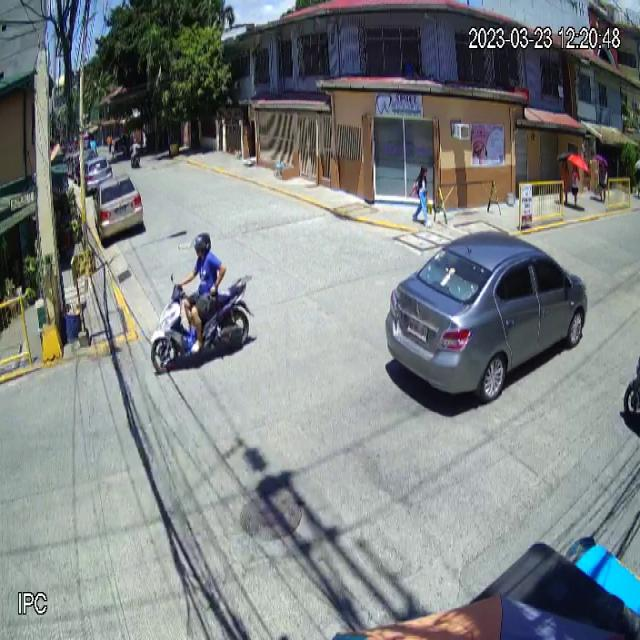Car: (384, 230, 588, 407), (92, 174, 143, 243)
Motorcycle: (150, 272, 255, 376)
